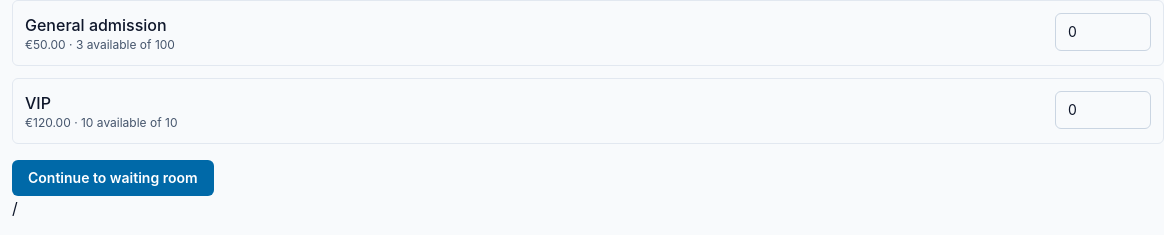
Scenario: ticket selection validation › accepts the maximum quantity equal to the limit
Replace the text in the number field labelled "VIP" with "10": point(1103, 110) [1055,91,1151,129]
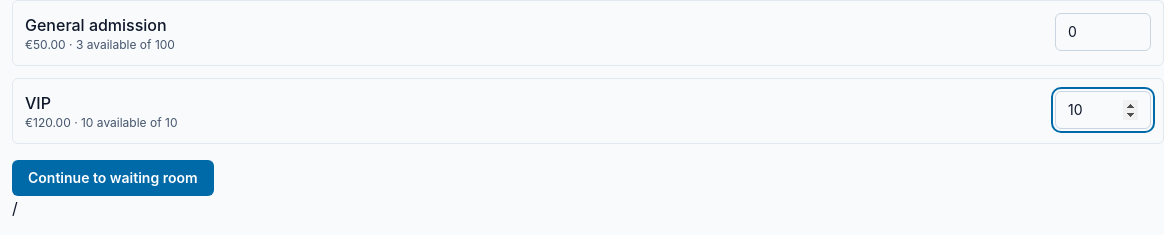
Click the button "Continue to waiting room": point(113, 178) [12,160,214,196]
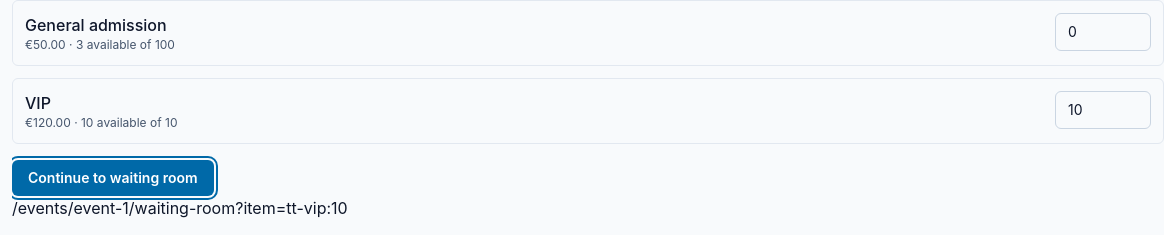
Result: the text with test id "location" reads "/events/event-1/waiting-room?item=tt-vip:10" at [12,198,348,218]
